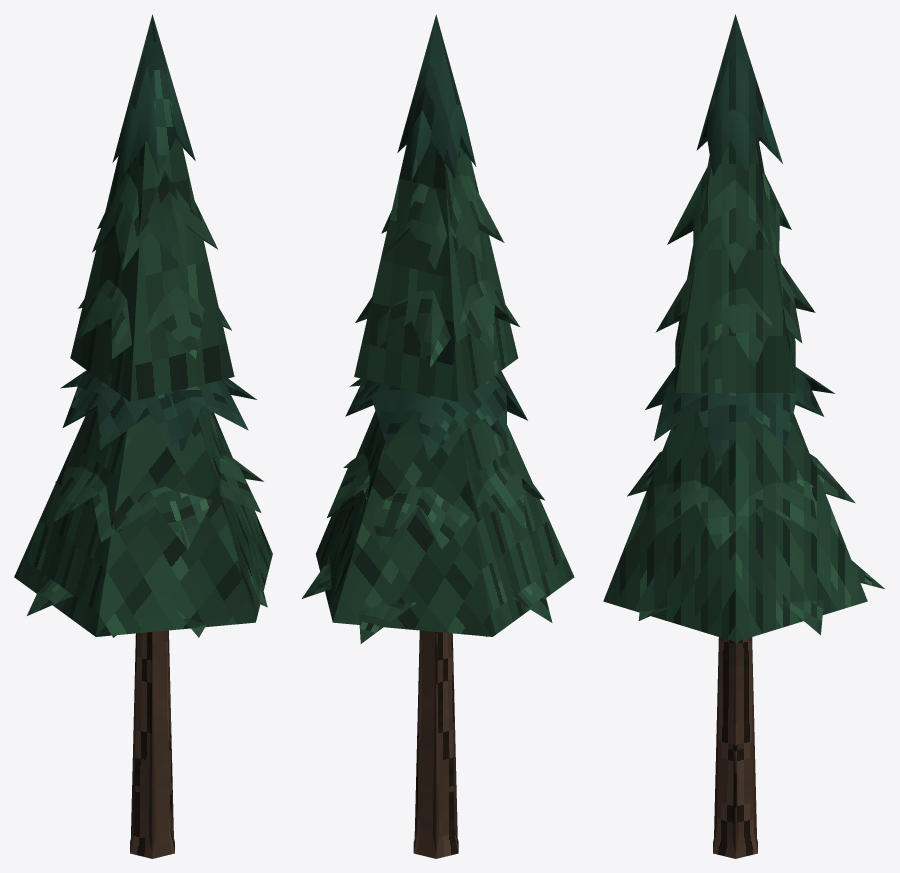
The model's file is p_pine.glb.
3 renders of one model, left to right at view 1: azimuth 30°, elevation 25°; view 2: azimuth 150°, elevation 25°; view 3: azimuth 270°, elevation 25°, orthographic.
Visible parts, largest first — view 1: pn_far, pn_tree; view 2: pn_far, pn_tree; view 3: pn_far, pn_tree.
Part boxes in pixels (x1,y1,x2,y2): pn_far: (14,138,272,853); pn_tree: (27,14,267,858); pn_far: (316,140,574,853); pn_tree: (302,14,552,858); pn_far: (603,140,867,853); pn_tree: (627,14,884,858).
Bounding box in the file's own units: 4.55 × 15 × 4.61.
1 material, 1 textured.
